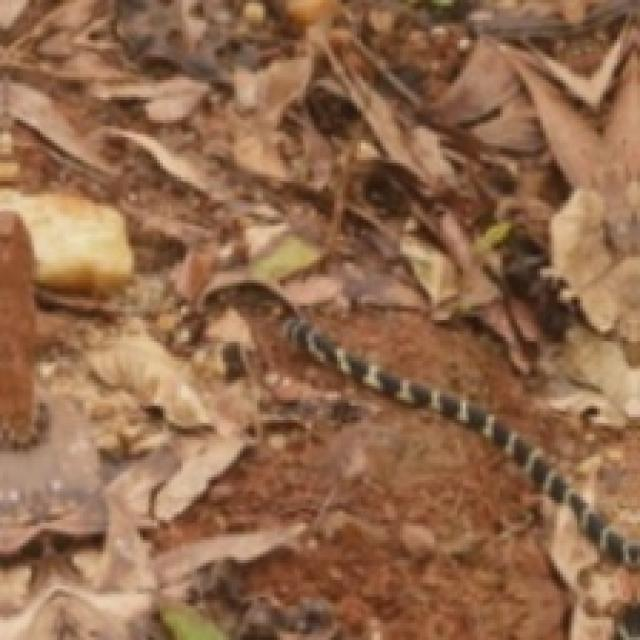king cobra: (143, 291, 637, 637)
